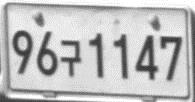1: (113, 33, 129, 81), (88, 32, 104, 79)
4: (134, 33, 158, 81)
6: (36, 31, 58, 76)
7: (159, 34, 182, 81)
9: (12, 30, 33, 75)
구: (59, 39, 81, 77)
